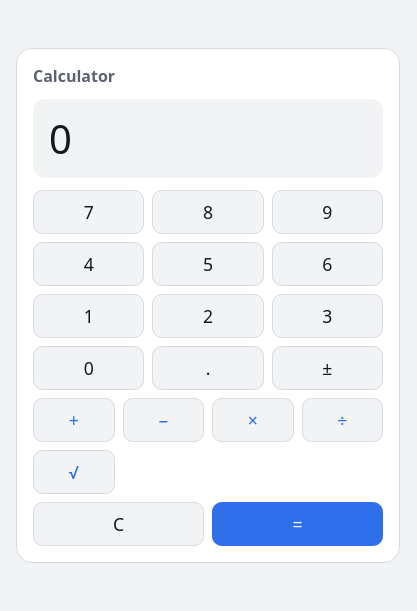
Scenario: failures › offers a retry when the network fails, and recovers on the retry
Expected: the button named "add" is shown, top-left (33, 398), bottom-right (114, 442)
Click the button "2".
click(208, 316)  # box top-left (152, 294), bottom-right (264, 338)
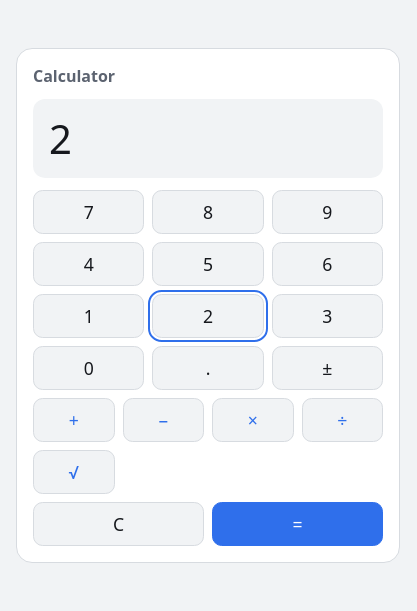
Click the button named "add".
click(74, 420)  # box top-left (33, 398), bottom-right (114, 442)
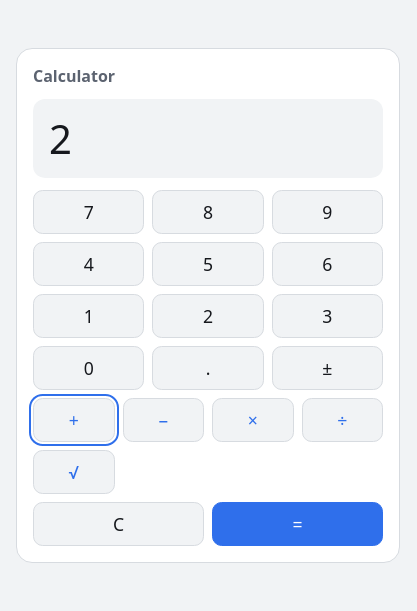
Click the button "3".
click(327, 316)  # box top-left (272, 294), bottom-right (383, 338)
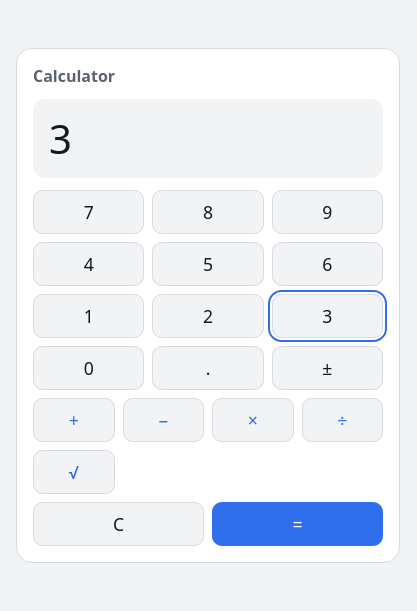
Click the button named "equals".
click(298, 524)  # box top-left (212, 502), bottom-right (383, 546)
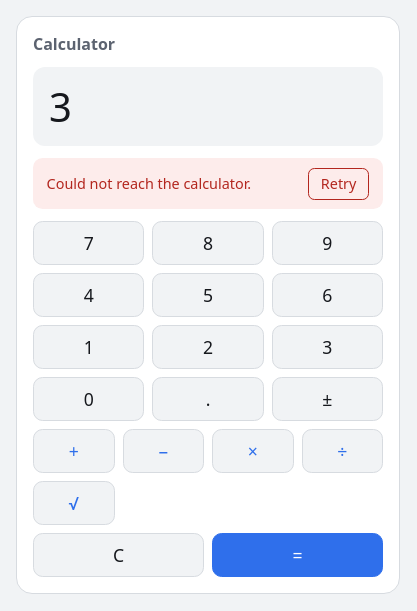
Click the button "Retry".
click(339, 184)  # box top-left (308, 168), bottom-right (369, 200)
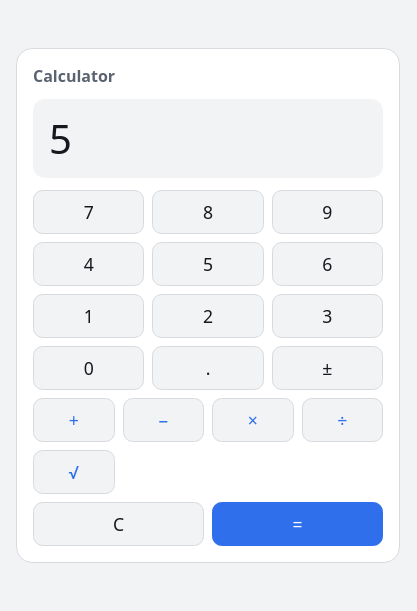
Expected: the message reads "5", top-left (49, 110), bottom-right (72, 166)
